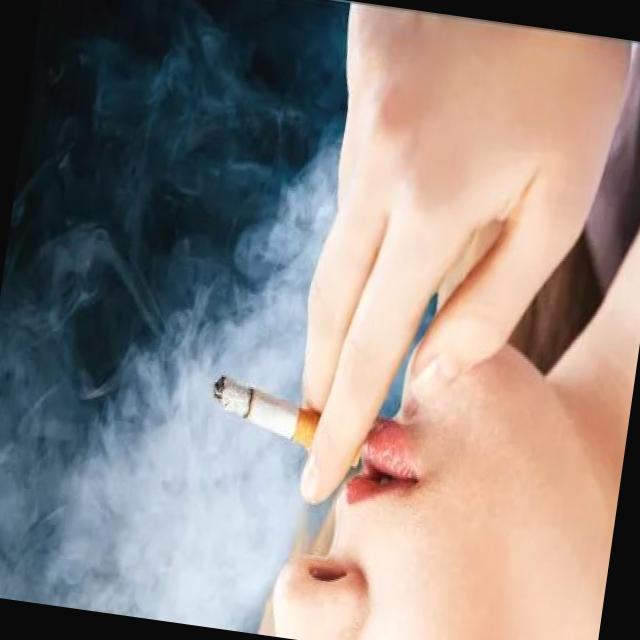cigarette: (202, 372, 374, 469)
